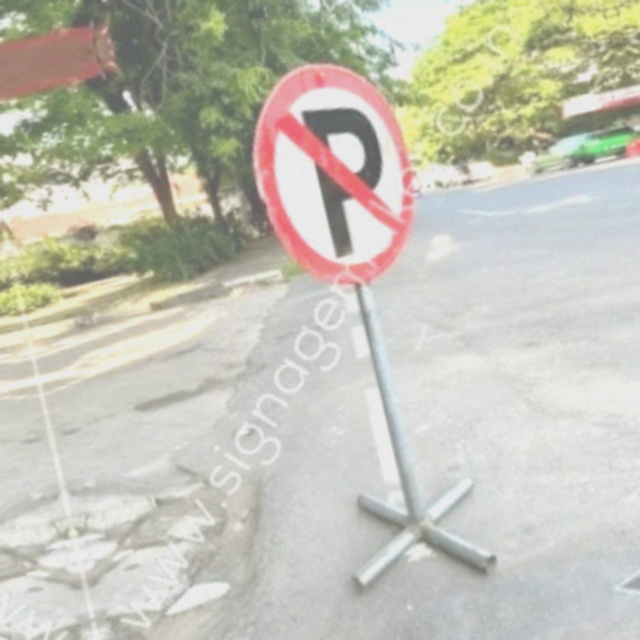No_Parking: (236, 45, 437, 300)
